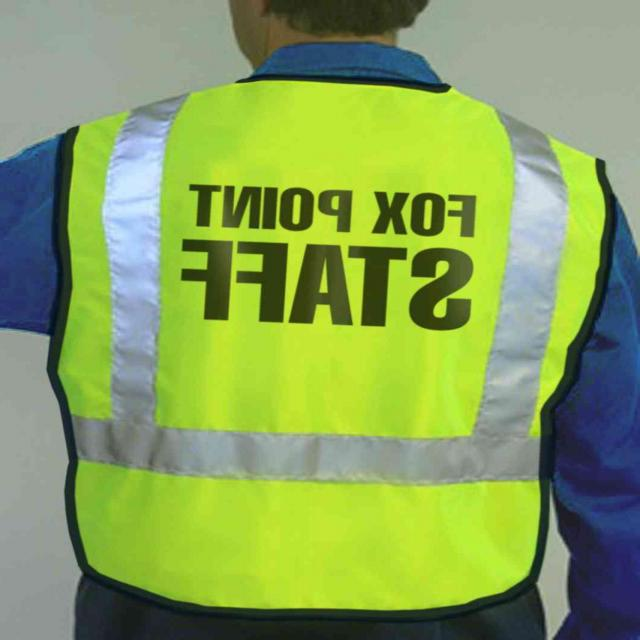Reflective-Jacket: (1, 46, 629, 632)
